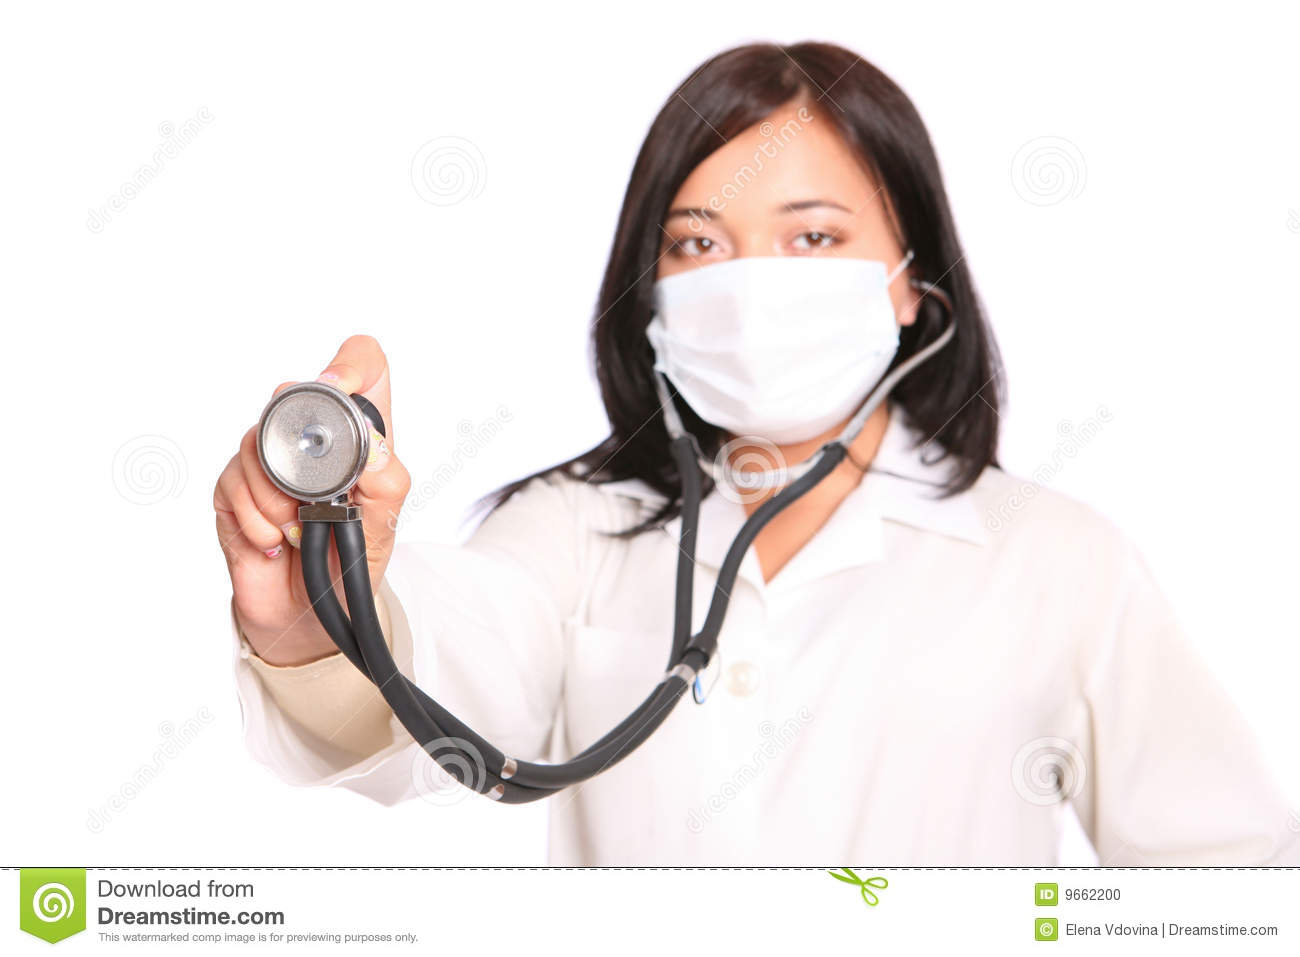mask: (639, 260, 920, 448)
